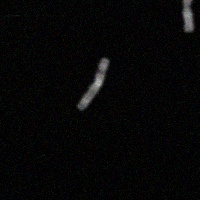chromosome: (76, 55, 111, 110), (181, 0, 194, 33)
